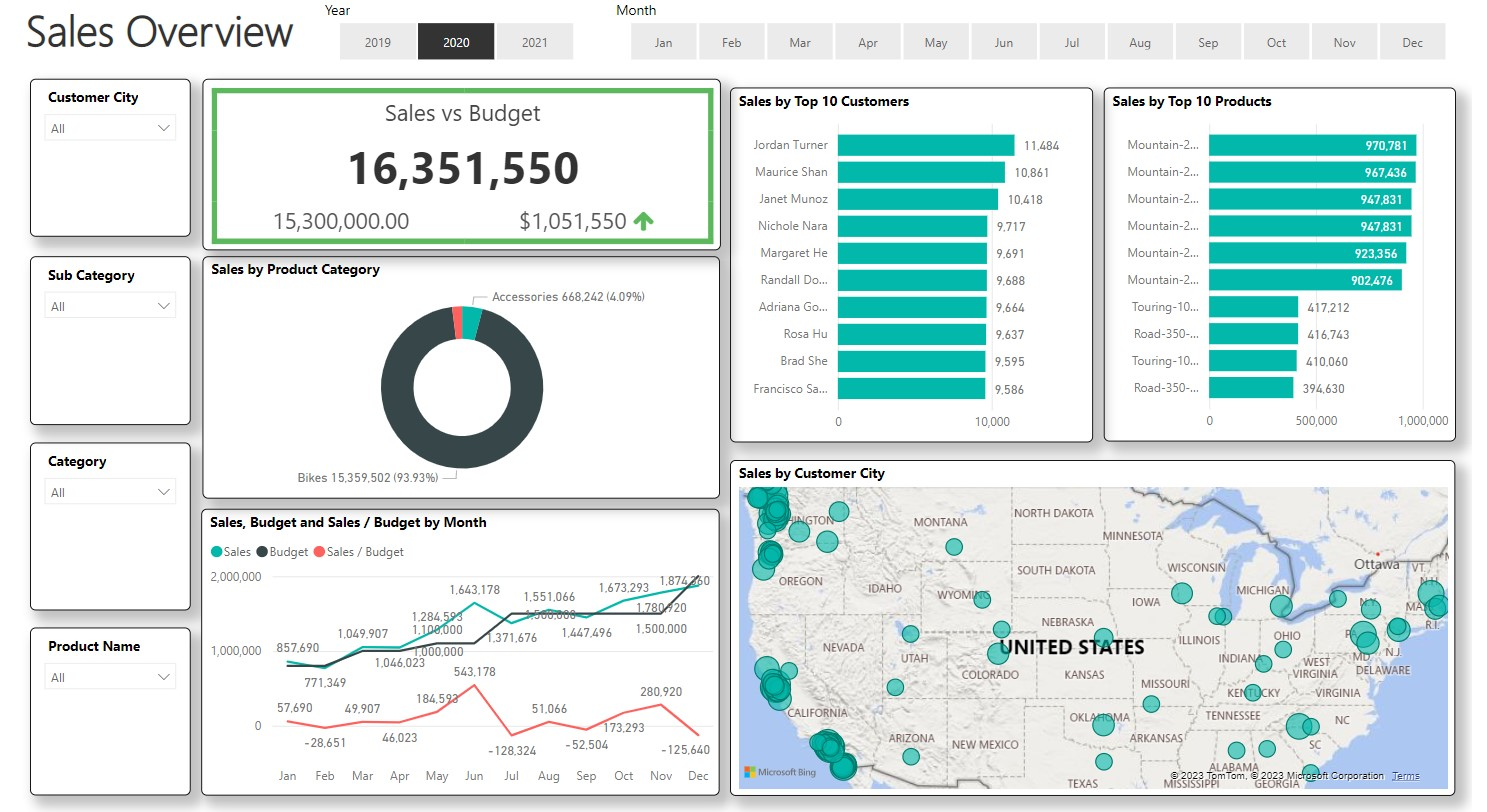

This screenshot's page, from the dashboard's own definition file:
{"tool":"powerbi","page":{"name":"Sales Overview","canvas":[1280,720],"ordinal":0},"visuals":[{"type":"textbox","box":[0,0,1280,64],"z":0},{"type":"slicer","fields":{"Values":["DIM_Calendar.Year"]},"box":[256,0,256,64],"z":1000},{"type":"slicer","fields":{"Values":["DIM_Calendar.MonthShort"]},"box":[512,0,768,64],"z":2000},{"type":"slicer","fields":{"Values":["DIM_Customers.Customer City"]},"box":[8.6,73.3,141.8,139.4],"z":3000},{"type":"slicer","fields":{"Values":["DIM_Products.Product Category"]},"box":[8.6,394.8,141.8,147.9],"z":4000},{"type":"slicer","fields":{"Values":["DIM_Products.Product Name"]},"box":[8.6,557.4,141.8,147.9],"z":5000},{"type":"slicer","fields":{"Values":["DIM_Products.Sub Category"]},"box":[8.6,229.8,141.8,149.1],"z":6000},{"type":"barChart","title":"Sales by Top 10 Products","fields":{"Category":["DIM_Products.Product Name"],"Y":["Analysis Metrics.Sales"]},"box":[954.7,81.9,310.5,311.7],"z":7000},{"type":"lineChart","fields":{"Category":["DIM_Calendar.MonthShort"],"Y":["Analysis Metrics.Sales","Analysis Metrics.Budget","Analysis Metrics.Sales / Budget"]},"box":[160.1,452.3,457.2,253],"z":8000},{"type":"barChart","title":"Sales by Top 10 Customers","fields":{"Category":["DIM_Customers.Full Name"],"Y":["Analysis Metrics.Sales"]},"box":[625.9,81.9,320.3,312.9],"z":9000},{"type":"donutChart","fields":{"Y":["Analysis Metrics.Sales"],"Series":["DIM_Products.Product Category"]},"box":[160.6,229.9,456.2,213.5],"z":10000},{"type":"map","fields":{"Category":["DIM_Customers.Customer City"],"Size":["Analysis Metrics.Sales"]},"box":[625.9,409.5,639.3,295.8],"z":12000},{"type":"BBED0A4D4D8D44CE93CF2DAFADEE466C","fields":{"actual":["Analysis Metrics.Sales"],"target2":["Analysis Metrics.Sales-Budget"],"target1":["Analysis Metrics.Budget"]},"box":[160.5,73.4,456.6,151.3],"z":13001}]}

Visuals, with their boxes on the page's 1280x720 design canvas (x1, y1, x2, y2). These are canvas units, not pixel positions in the 1487x812 screenshot, which may show the page scaled, cropped or inside an application window:
textbox: <region>0, 0, 1280, 64</region>
slicer - DIM_Calendar.Year: <region>256, 0, 512, 64</region>
slicer - DIM_Calendar.MonthShort: <region>512, 0, 1280, 64</region>
slicer - DIM_Customers.Customer City: <region>9, 73, 150, 213</region>
slicer - DIM_Products.Product Category: <region>9, 395, 150, 543</region>
slicer - DIM_Products.Product Name: <region>9, 557, 150, 705</region>
slicer - DIM_Products.Sub Category: <region>9, 230, 150, 379</region>
"Sales by Top 10 Products" barChart: <region>955, 82, 1265, 394</region>
lineChart - DIM_Calendar.MonthShort x Analysis Metrics.Sales: <region>160, 452, 617, 705</region>
"Sales by Top 10 Customers" barChart: <region>626, 82, 946, 395</region>
donutChart - Analysis Metrics.Sales x DIM_Products.Product Category: <region>161, 230, 617, 443</region>
map - DIM_Customers.Customer City x Analysis Metrics.Sales: <region>626, 410, 1265, 705</region>
BBED0A4D4D8D44CE93CF2DAFADEE466C - Analysis Metrics.Sales x Analysis Metrics.Sales-Budget: <region>160, 73, 617, 225</region>
